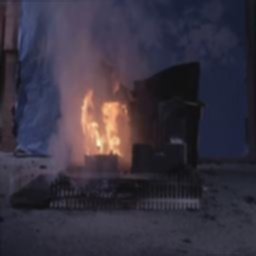fire: (78, 88, 130, 161)
